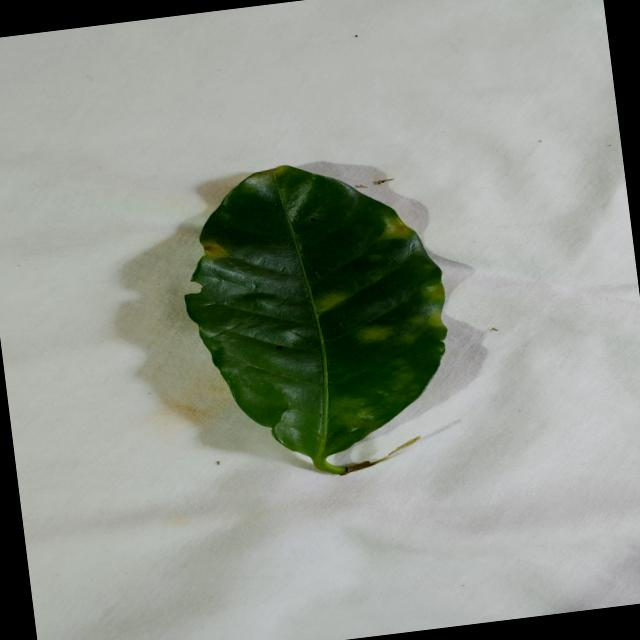KaratDaunKopi: (382, 217, 414, 238), (315, 293, 347, 313), (357, 325, 392, 341), (203, 240, 228, 258)
